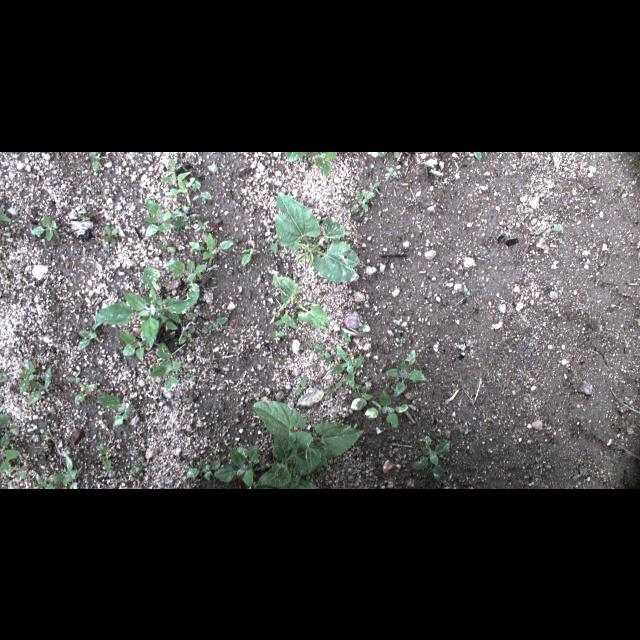crop: (252, 397, 368, 487), (88, 262, 202, 346), (274, 188, 360, 284), (272, 270, 328, 332)
weed: (142, 198, 212, 240), (158, 156, 214, 204), (409, 436, 455, 486), (383, 348, 429, 396), (214, 442, 264, 486), (364, 388, 411, 432), (144, 342, 184, 391), (184, 228, 236, 262), (330, 343, 364, 389), (1, 412, 23, 478), (280, 152, 340, 176), (164, 253, 212, 283), (114, 324, 150, 362), (92, 393, 132, 427), (13, 357, 42, 403), (53, 452, 89, 488), (185, 452, 227, 481), (604, 380, 638, 414), (31, 210, 61, 244), (298, 334, 332, 364), (350, 374, 374, 414), (200, 312, 234, 336), (126, 452, 152, 482), (74, 324, 102, 351), (565, 462, 593, 488), (94, 222, 118, 252), (95, 441, 115, 477), (347, 187, 375, 211), (606, 439, 638, 459), (72, 382, 100, 404), (8, 464, 32, 488), (452, 418, 478, 440), (172, 320, 195, 344), (32, 468, 59, 488), (292, 374, 312, 401), (61, 363, 85, 385), (36, 421, 58, 445), (88, 152, 110, 172), (149, 238, 175, 254), (544, 218, 566, 236), (580, 174, 602, 192), (40, 364, 54, 392), (238, 246, 254, 270), (180, 385, 197, 407), (264, 328, 294, 340), (326, 378, 344, 396), (366, 176, 384, 194), (391, 331, 411, 347), (387, 162, 403, 180), (179, 407, 199, 421), (371, 152, 403, 160), (355, 317, 373, 331), (340, 328, 354, 344), (426, 158, 442, 172), (397, 272, 411, 288), (232, 346, 248, 360), (77, 210, 95, 222), (462, 281, 474, 299), (0, 204, 10, 222), (184, 368, 196, 382), (1, 369, 9, 385), (468, 152, 487, 158)
